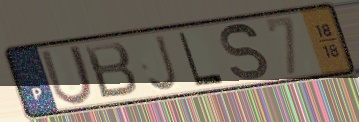7: (263, 15, 300, 78)
B: (81, 39, 140, 101)
J: (146, 33, 182, 94)
L: (176, 30, 227, 88)
S: (219, 21, 271, 82)
U: (38, 42, 96, 107)
